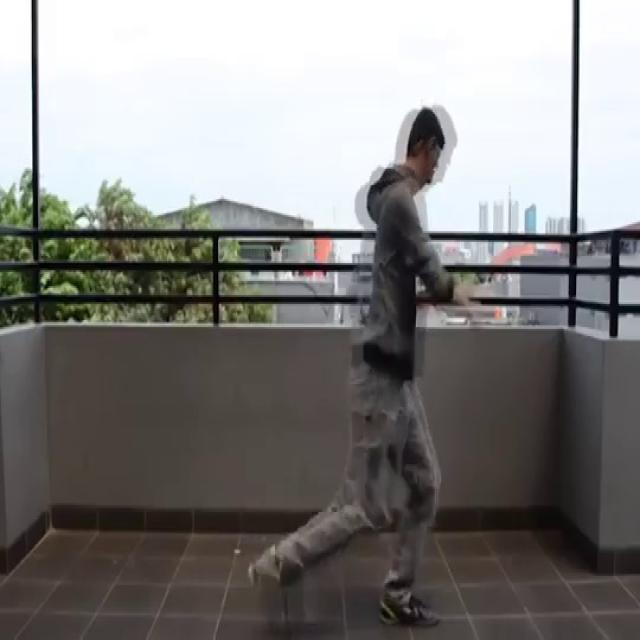normal: (254, 98, 496, 629)
